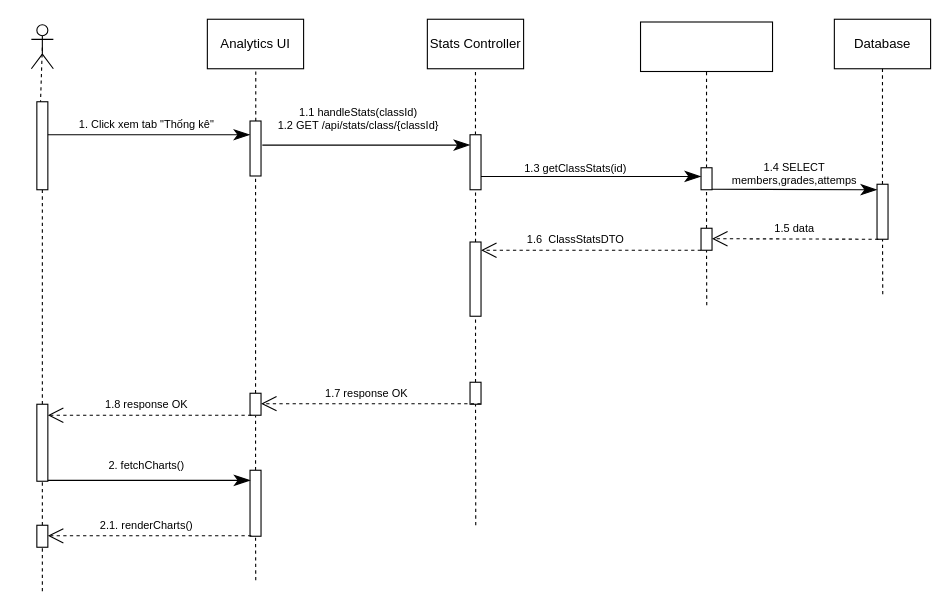
This 950x612 diagram has some shape labels left out. The centre of each missing label's shape, as x and y in pixels:
Stats Service: (x=706, y=46)
Teacher: (x=41, y=46)
